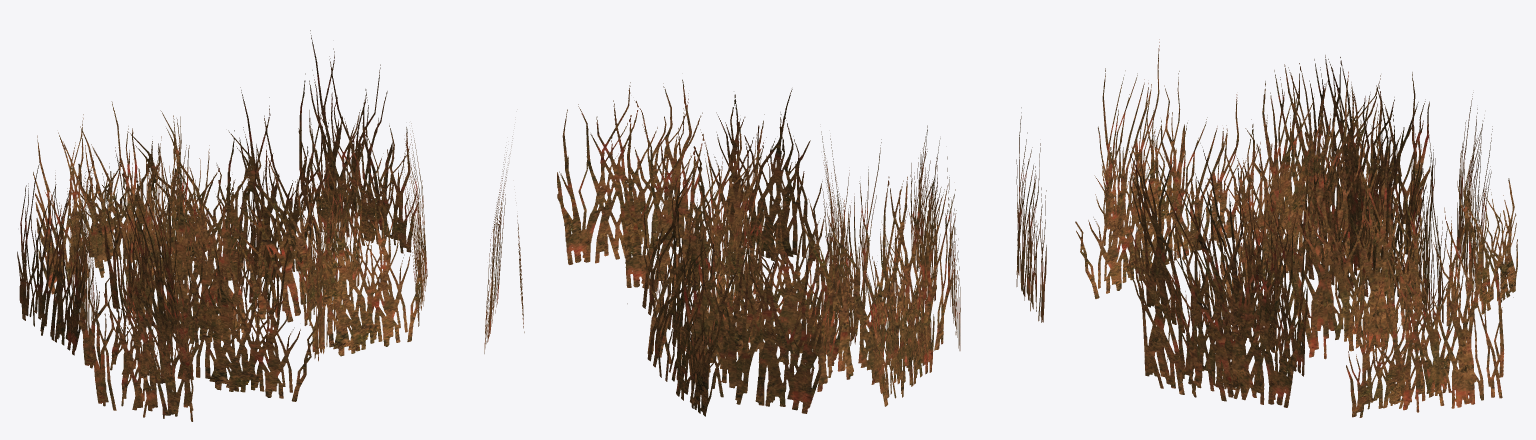
The model's file is grass_3d_03_copper.glb.
The picture shows the model from 3 angles, left to right: view 1: azimuth 30°, elevation 25°; view 2: azimuth 150°, elevation 25°; view 3: azimuth 270°, elevation 25°; orthographic projection. The views are drawn at different scales.
Visible parts, largest first — view 1: grass_cards; view 2: grass_cards; view 3: grass_cards.
Part boxes in pixels (x1,y1,x2,y2): grass_cards: (17,30,427,421); grass_cards: (484,79,1046,416); grass_cards: (1075,39,1517,417).
Bounding box in the file's own units: 1.11 × 0.5631 × 0.9892.
1 material, 1 textured.
